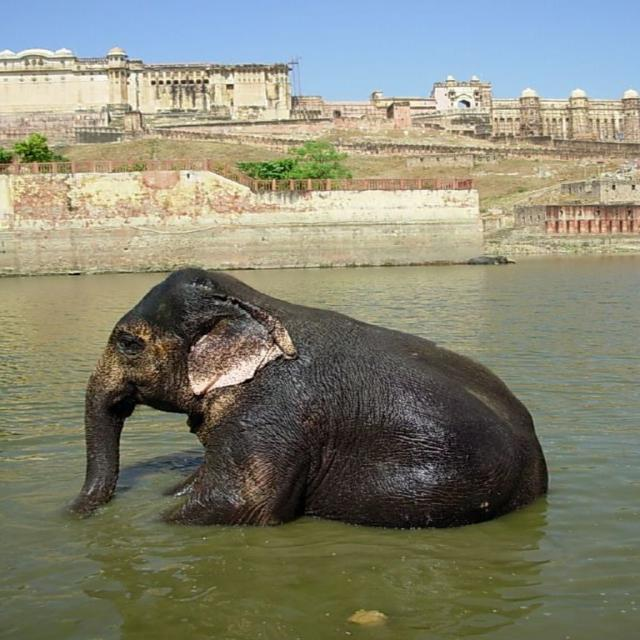Elephant: (54, 266, 544, 534)
